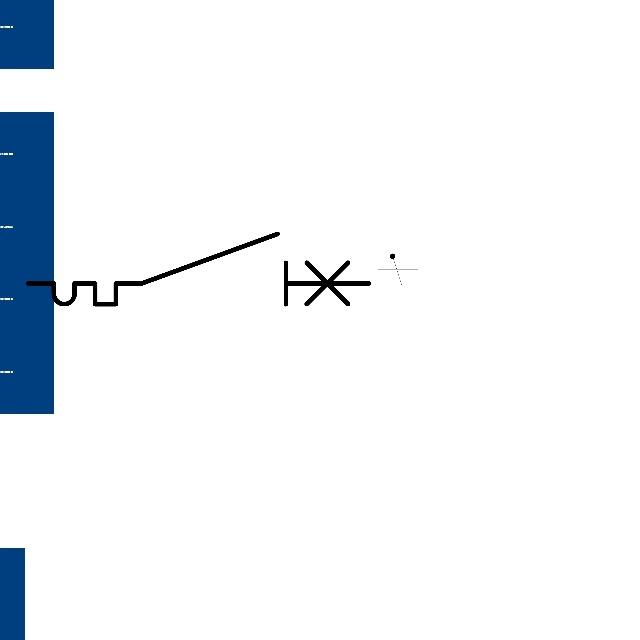interruptor_termomagnetico: (19, 225, 377, 313)
